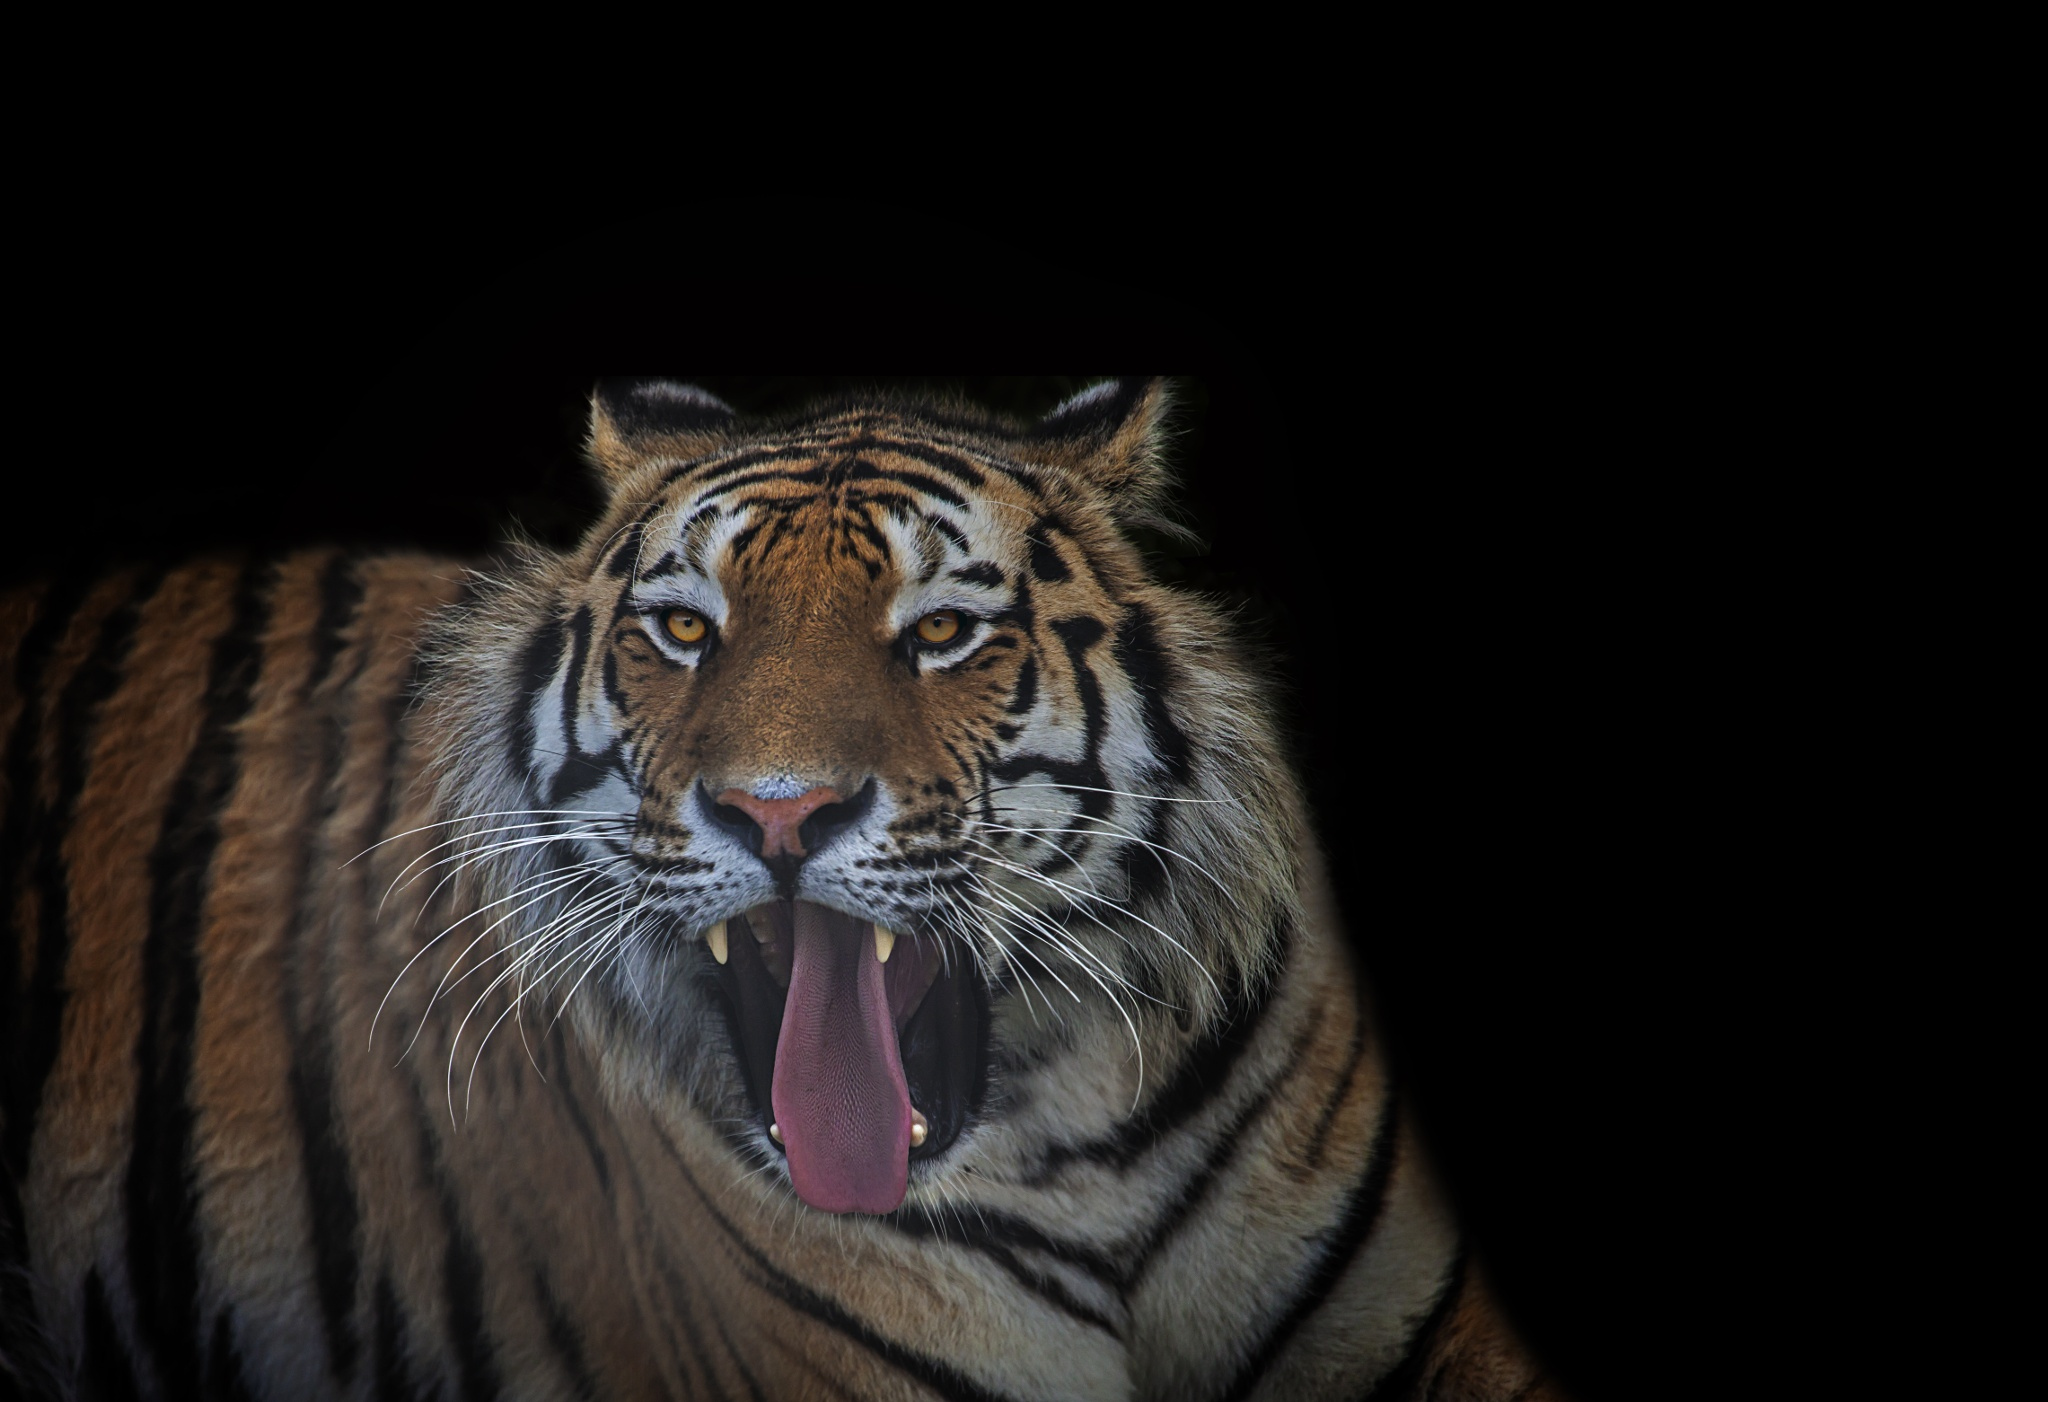tiger: (112, 335, 1285, 1320)
